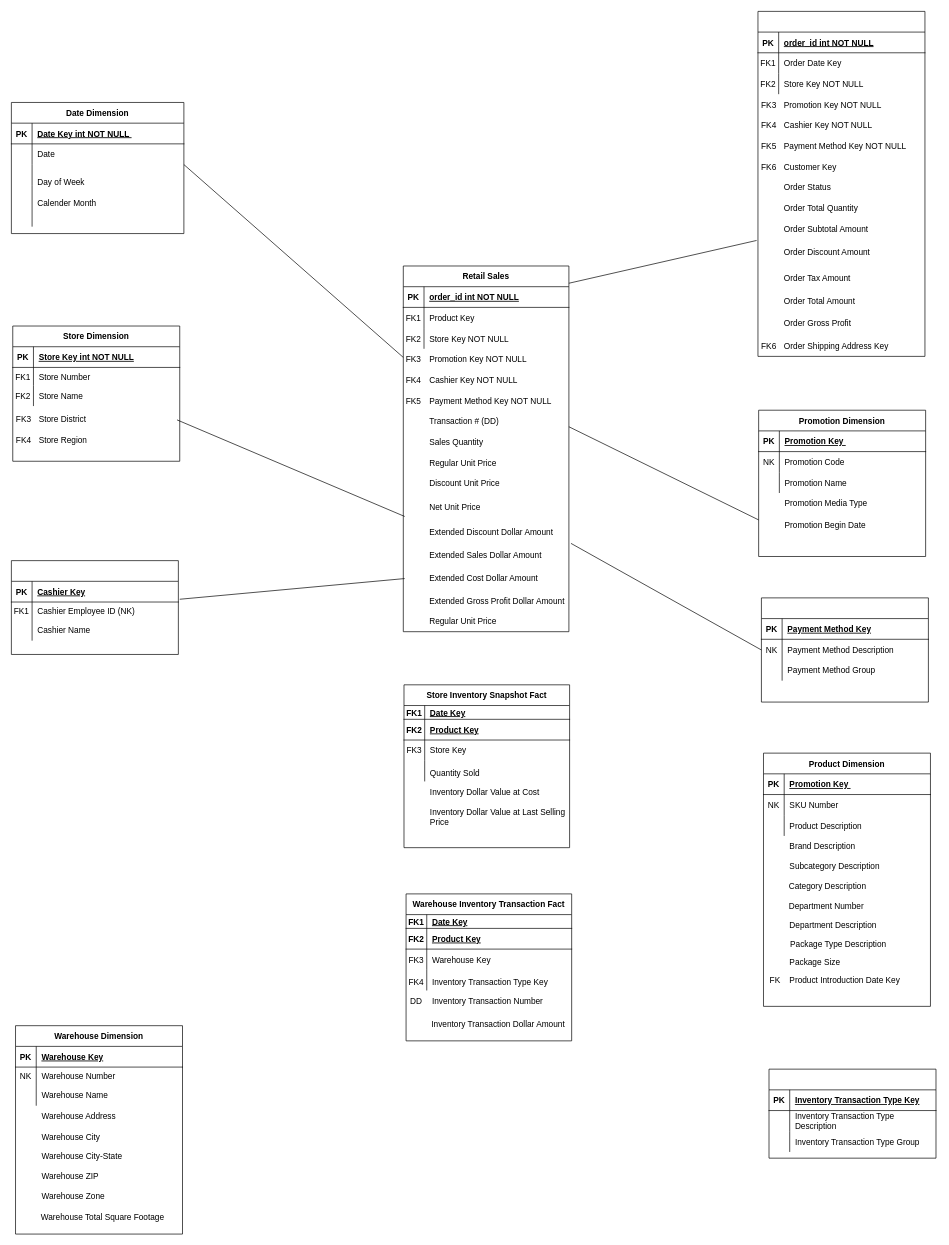
This 949x1245 diagram has some shape labels left out. The shapes that lost their labels are listed below. From the top down, each one's box as (x1, y1, x2, y2) in pixels, then its label:
(757, 11, 925, 356): Order Header
(11, 560, 178, 654): Cashier Dimension
(761, 597, 928, 702): Payment Method Dimension
(768, 1068, 936, 1158): Inventory Transaction Type Dimension
